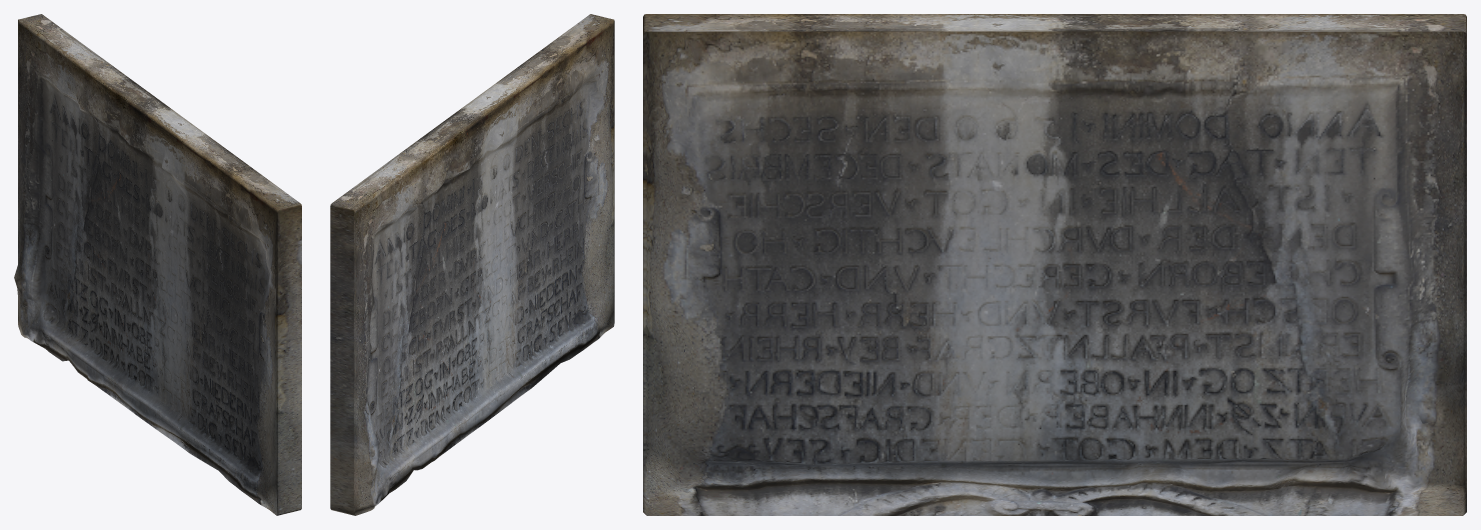
The model's file is sm_Relief_01_02.fbx.
3 views of the same model, side by side, from view 1: azimuth 30°, elevation 25°; view 2: azimuth 150°, elevation 25°; view 3: azimuth 270°, elevation 25° (orthographic). The views are drawn at different scales.
Parts seen in each view (by area): view 1: sm_Relief_01_02_LOD0; view 2: sm_Relief_01_02_LOD0; view 3: sm_Relief_01_02_LOD0.
Boxes of the visible parts, x1,y1,x2,y2 form: sm_Relief_01_02_LOD0: (14,14,301,515); sm_Relief_01_02_LOD0: (330,14,614,515); sm_Relief_01_02_LOD0: (643,14,1466,515).
Size of the model in its own units: 5.12 by 70.66 by 45.83.
